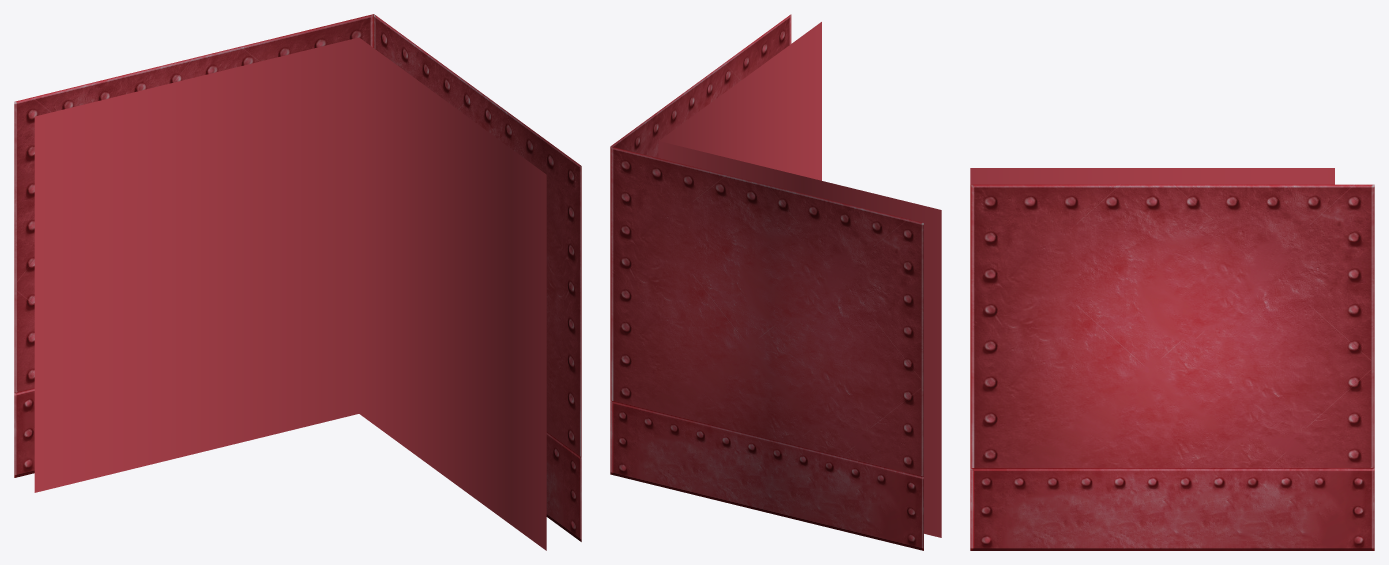
The model's file is CornerIn1.fbx.
3 renders of one model, left to right at view 1: azimuth 30°, elevation 25°; view 2: azimuth 150°, elevation 25°; view 3: azimuth 270°, elevation 25°, orthographic. The views are drawn at different scales.
Parts seen in each view (by area): view 1: CornerIn1; view 2: CornerIn1; view 3: CornerIn1.
Boxes of the visible parts, x1,y1,x2,y2 form: CornerIn1: (14,14,581,550); CornerIn1: (610,14,941,550); CornerIn1: (970,168,1374,550).
Size of the model in its own units: 1024 by 1024 by 1024.
